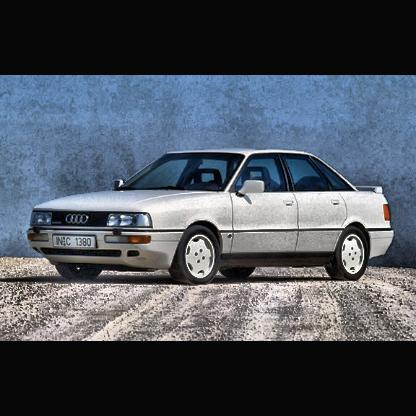Audi V8 Sedan 1994: (32, 150, 398, 290)
